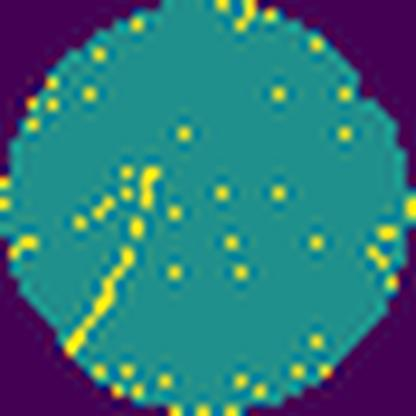Scratch: (60, 163, 164, 358)
